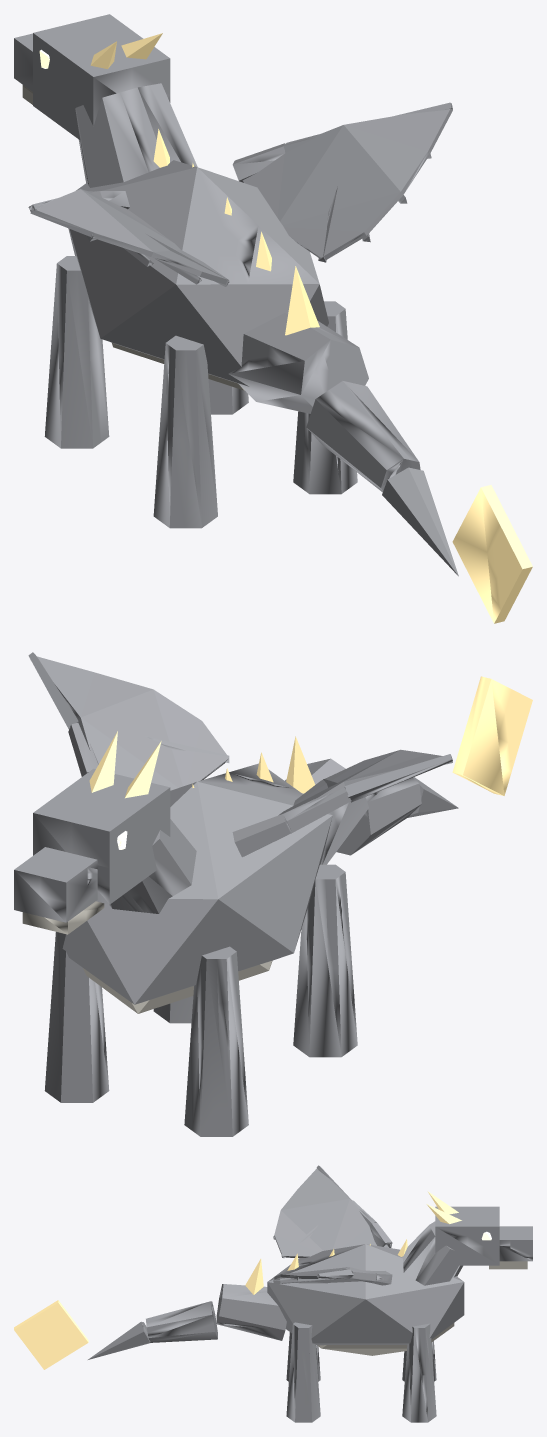
Rendered from dragon_stone.glb.
3 views of the same model, one above another, from view 1: azimuth 30°, elevation 25°; view 2: azimuth 150°, elevation 25°; view 3: azimuth 270°, elevation 25° (orthographic). The views are drawn at different scales.
Visible parts, largest first — view 1: DragonBody; view 2: DragonBody; view 3: DragonBody.
Boxes of the visible parts, x1,y1,x2,y2 form: DragonBody: (14,14,532,623); DragonBody: (14,652,532,1136); DragonBody: (14,1165,532,1422).
Bounding box in the file's own units: 2.43 × 2.07 × 4.84.
